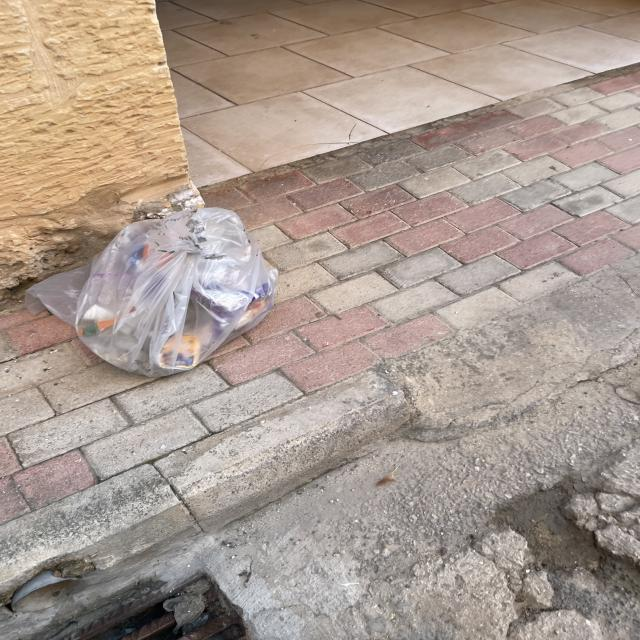grey_bag: (36, 204, 276, 380)
